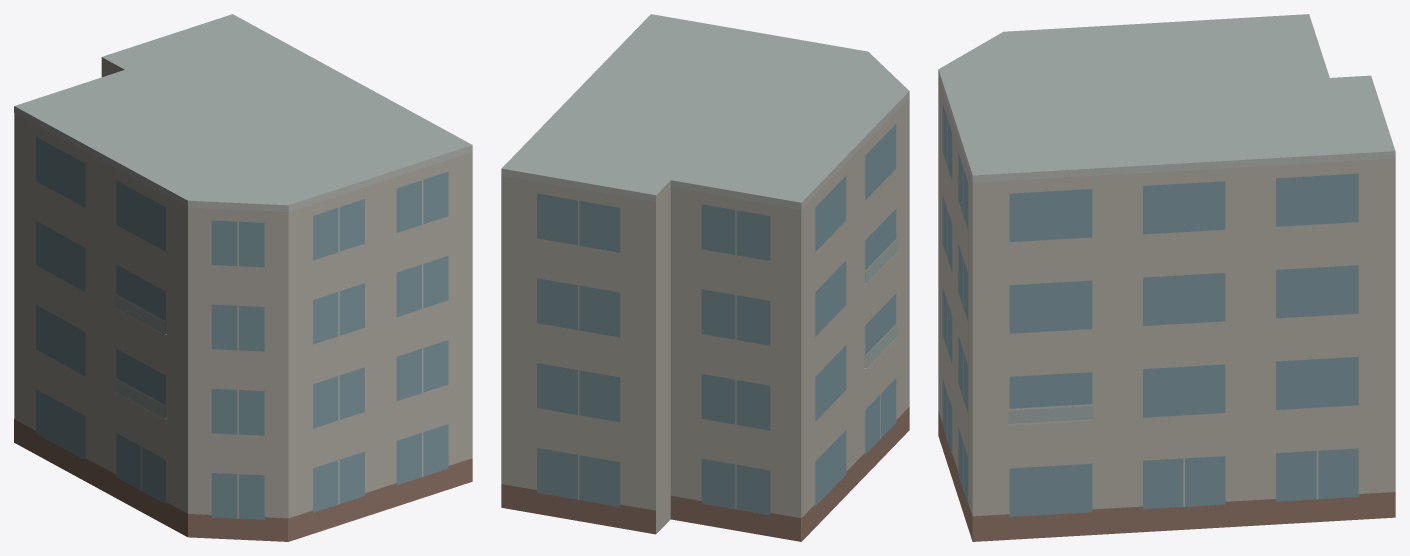
The model's file is residential-d98882cb-9990-41f4-a25c-2373c2a5a2a7.glb.
The picture shows the model from 3 angles, left to right: view 1: azimuth 30°, elevation 25°; view 2: azimuth 150°, elevation 25°; view 3: azimuth 270°, elevation 25°; orthographic projection. The views are drawn at different scales.
Parts seen in each view (by area): view 1: residential-d98882cb-9990-41f4-a25c-2373c2a5a2a7.tmp; view 2: residential-d98882cb-9990-41f4-a25c-2373c2a5a2a7.tmp; view 3: residential-d98882cb-9990-41f4-a25c-2373c2a5a2a7.tmp.
Part boxes in pixels (x1,y1,x2,y2): residential-d98882cb-9990-41f4-a25c-2373c2a5a2a7.tmp: [14, 14, 472, 541]; residential-d98882cb-9990-41f4-a25c-2373c2a5a2a7.tmp: [501, 14, 909, 541]; residential-d98882cb-9990-41f4-a25c-2373c2a5a2a7.tmp: [938, 14, 1395, 541].
Bounding box in the file's own units: 11.54 × 12.2 × 13.8.
